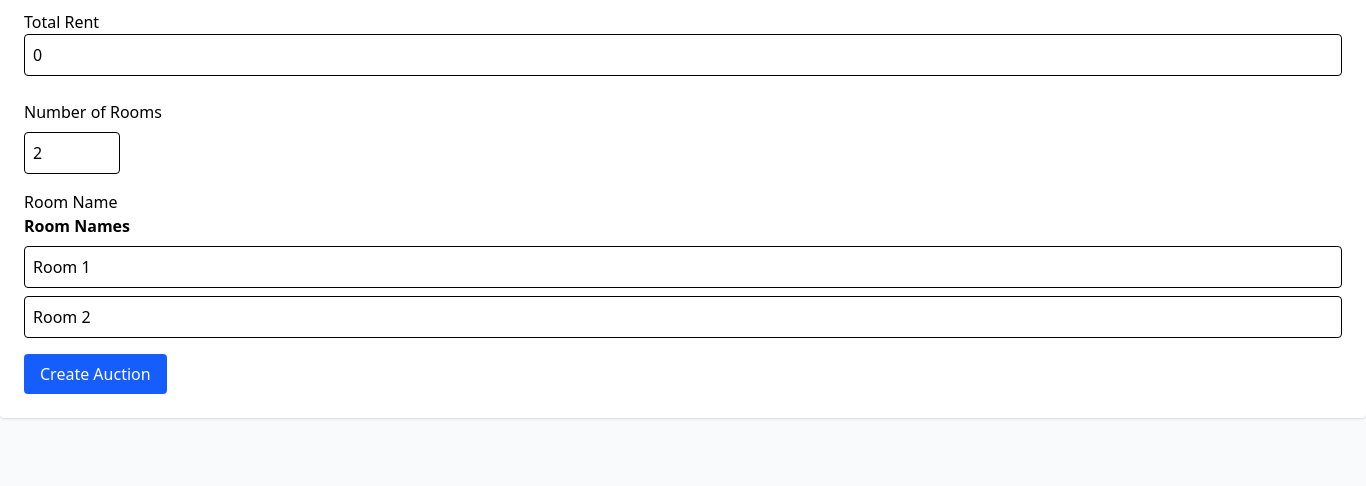
AuctionCreator - Test button functionality › updates room names when room count changes
# Change room count from 2 to 3
Replace the text in the number field showing "2" with "3" at (72, 153), box left=24, top=132, right=120, bottom=174
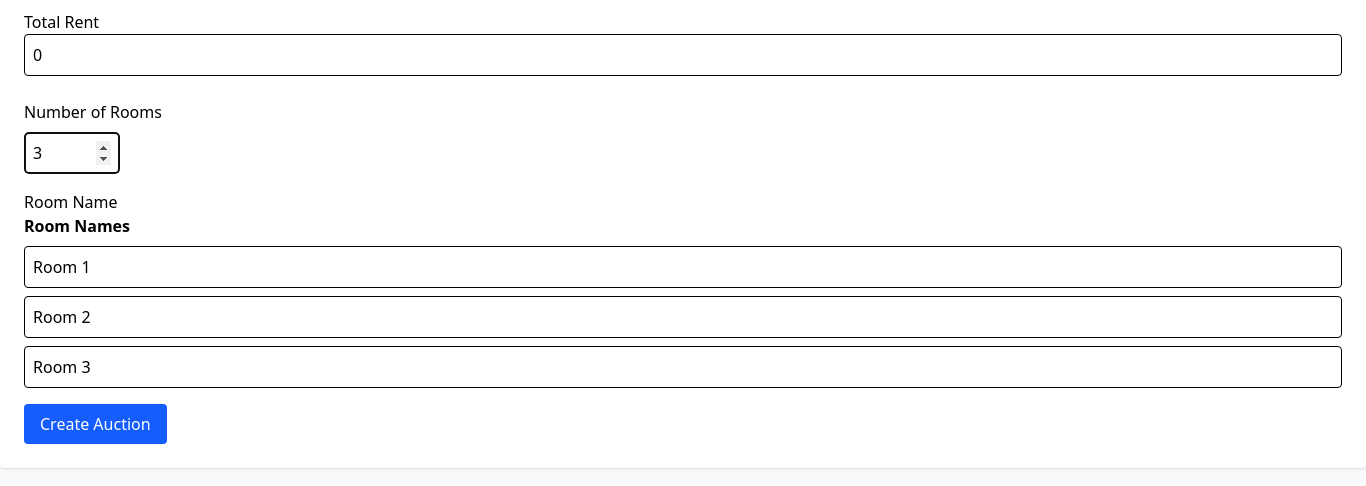
Expected: the number of fields showing "Room" is 3, left=24, top=246, right=1342, bottom=288; left=24, top=296, right=1342, bottom=338; left=24, top=346, right=1342, bottom=388
